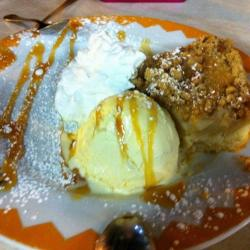apple_pie: (132, 34, 248, 157)
icecream: (68, 94, 185, 199), (52, 35, 144, 127)
